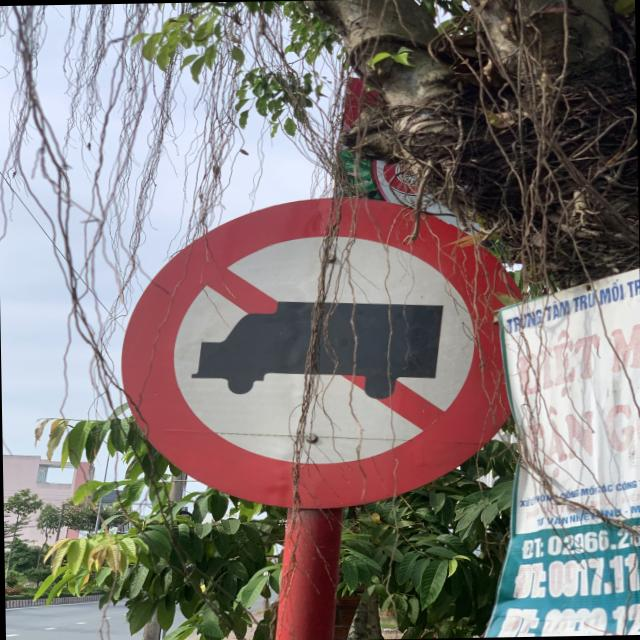Cam_Xe_Tai: (112, 189, 524, 514)
